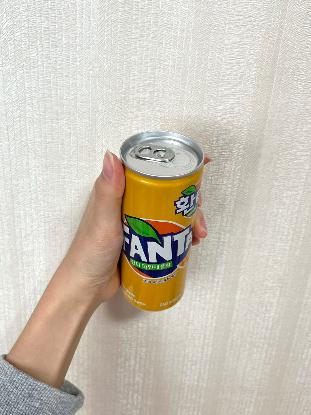Can: (117, 128, 207, 316)
